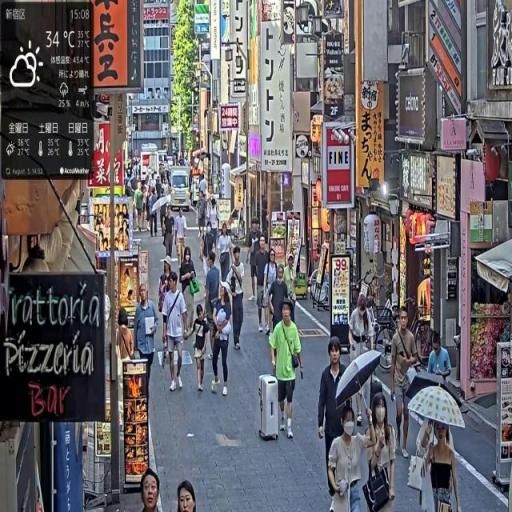person: (319, 338, 351, 507), (271, 300, 306, 440), (329, 403, 372, 512), (391, 309, 420, 454), (365, 391, 398, 512), (421, 420, 461, 512), (163, 272, 189, 395), (350, 293, 375, 420), (134, 284, 159, 404), (212, 285, 235, 400), (189, 301, 213, 396), (204, 251, 223, 365), (179, 248, 201, 341), (229, 244, 247, 353), (253, 236, 272, 335), (247, 218, 262, 305), (218, 222, 235, 294), (428, 332, 452, 381), (139, 470, 166, 512), (176, 204, 188, 271), (164, 205, 177, 259)
